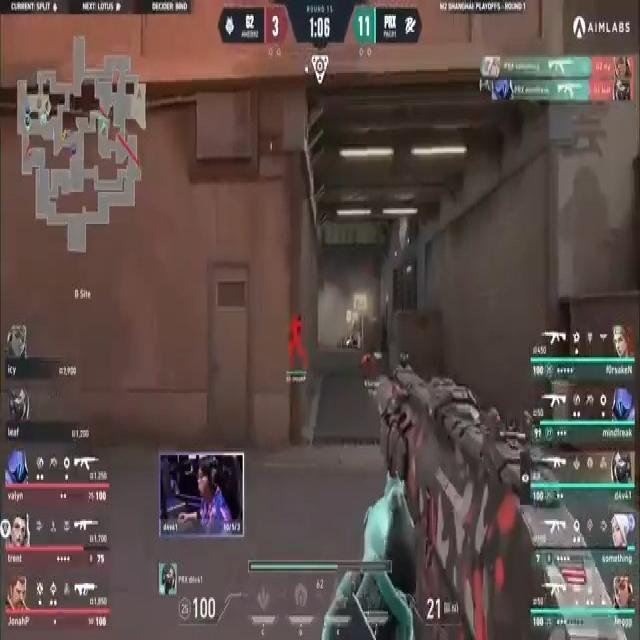enemy behind wall: (285, 313, 307, 376)
